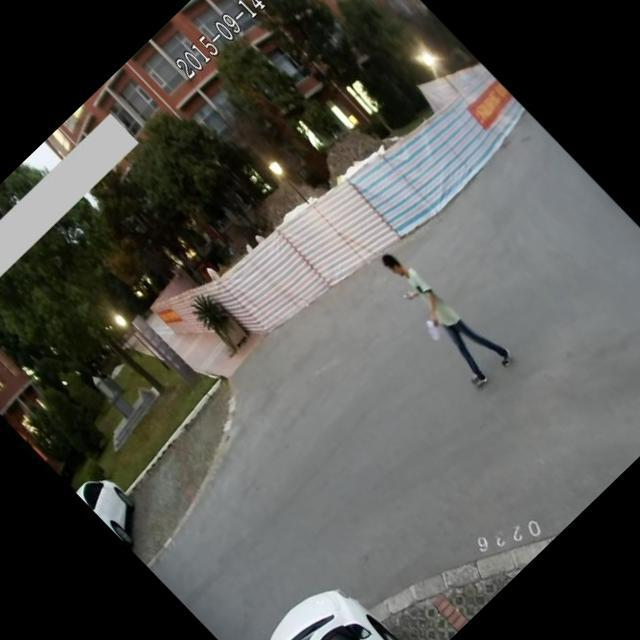person: (358, 230, 524, 398)
